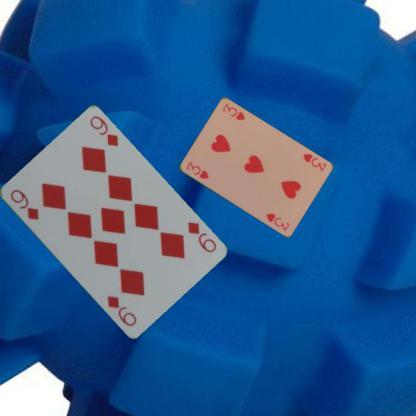3h: (300, 150, 327, 172), (184, 158, 209, 180)
9d: (184, 219, 218, 254), (7, 186, 40, 221)
